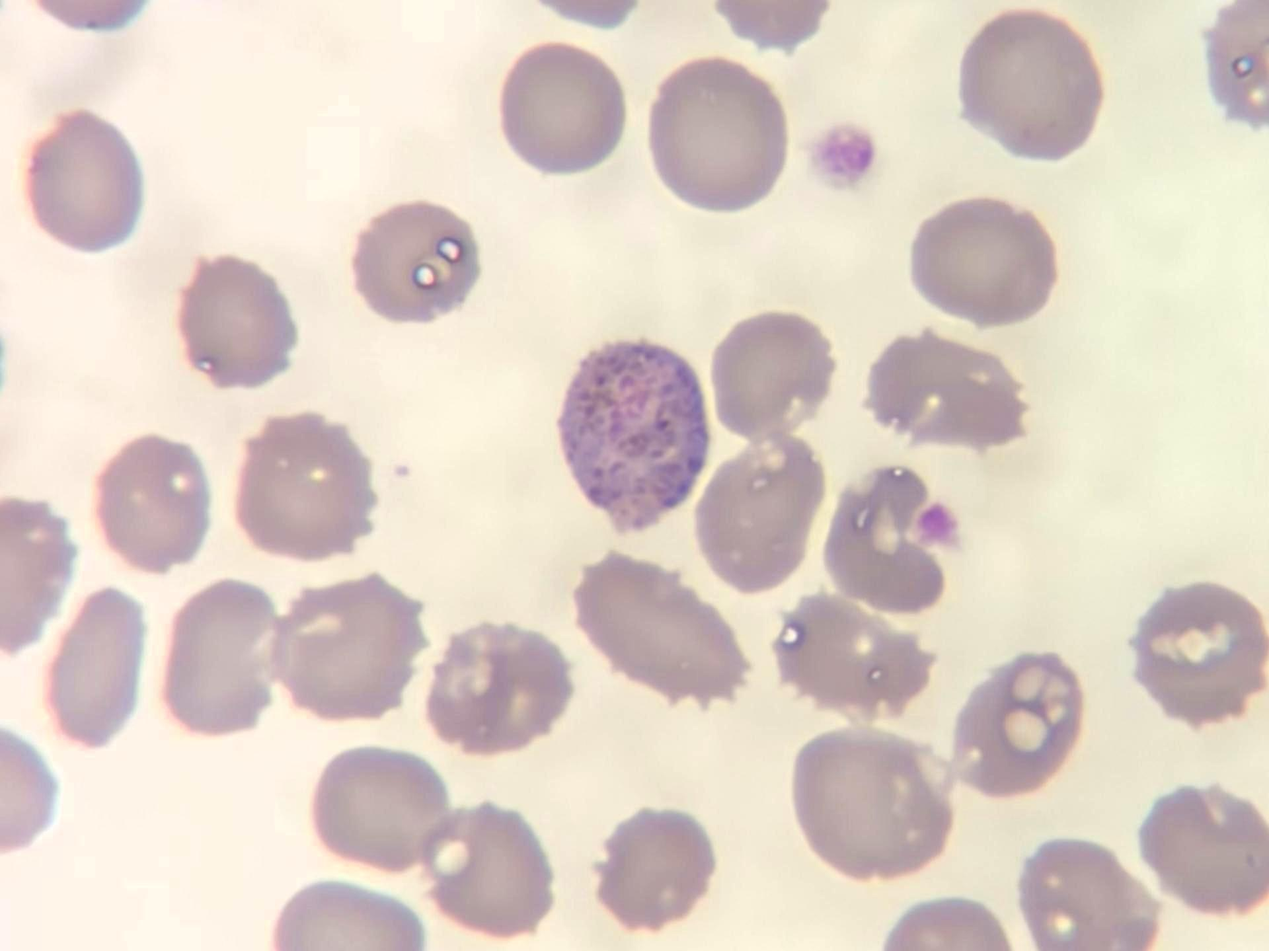Infected: (555, 420, 714, 609)
Uninfected: (518, 242, 697, 398), (314, 66, 477, 216), (841, 231, 993, 377), (165, 791, 310, 939), (337, 230, 496, 361), (891, 392, 1034, 537), (481, 741, 618, 890), (240, 500, 405, 623), (443, 358, 573, 513), (1, 222, 138, 367), (697, 196, 845, 327), (321, 337, 449, 486), (186, 152, 317, 295), (211, 625, 356, 752), (988, 213, 1104, 369), (0, 30, 128, 167), (818, 80, 956, 206), (712, 13, 843, 145), (107, 0, 258, 114), (1123, 699, 1243, 839), (1123, 203, 1225, 365), (642, 779, 768, 907), (1058, 379, 1173, 517), (434, 513, 559, 639), (971, 562, 1091, 693), (788, 628, 915, 748), (557, 17, 674, 143)
